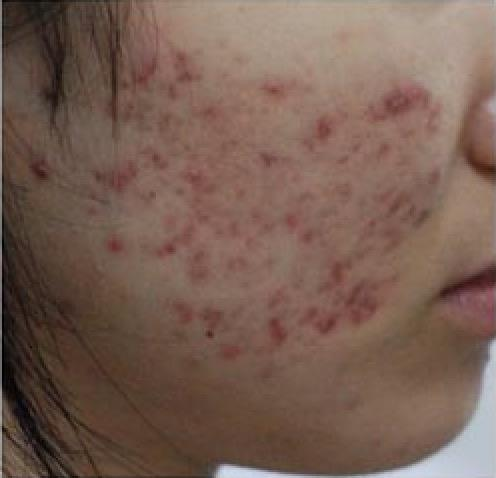fore: (371, 89, 414, 125), (26, 158, 68, 193), (254, 140, 291, 177), (176, 155, 212, 193), (99, 93, 136, 122), (178, 215, 205, 254), (141, 140, 173, 170), (123, 71, 159, 97), (304, 119, 341, 144), (192, 187, 231, 210), (260, 78, 292, 105), (153, 228, 178, 262), (161, 294, 188, 322), (421, 160, 448, 188), (263, 281, 288, 311), (264, 314, 288, 345), (326, 250, 348, 281), (196, 300, 220, 328), (403, 200, 427, 227), (245, 204, 269, 230), (139, 51, 166, 74), (173, 71, 203, 91), (374, 131, 398, 155), (195, 104, 223, 124), (108, 226, 124, 261), (408, 78, 431, 101), (371, 185, 396, 206), (104, 162, 123, 189), (159, 44, 189, 61), (315, 318, 340, 338), (116, 160, 143, 178), (348, 304, 369, 327), (275, 208, 299, 228), (351, 273, 373, 294), (299, 298, 321, 319), (216, 345, 239, 363), (186, 262, 209, 280), (383, 219, 400, 241), (301, 220, 318, 241), (358, 297, 379, 313), (120, 184, 128, 193)
